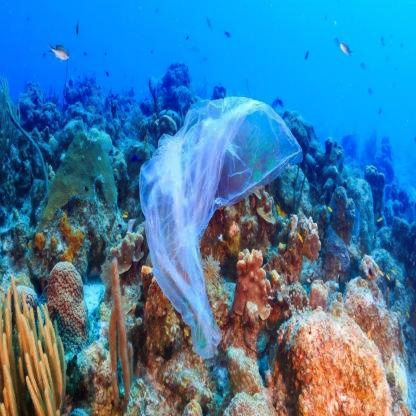pbag: (139, 96, 304, 360)
